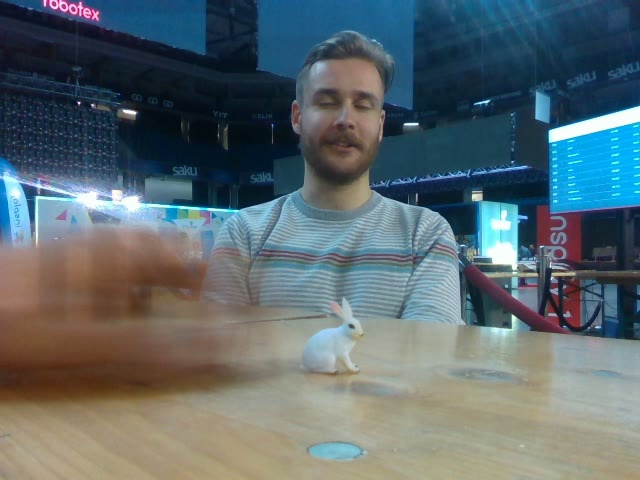toy: (297, 297, 364, 376)
